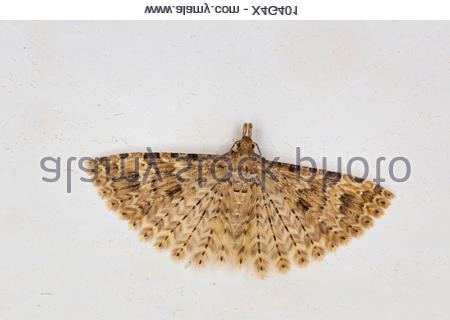Alucitidae: (85, 119, 396, 276)
moth: (87, 121, 398, 278)
